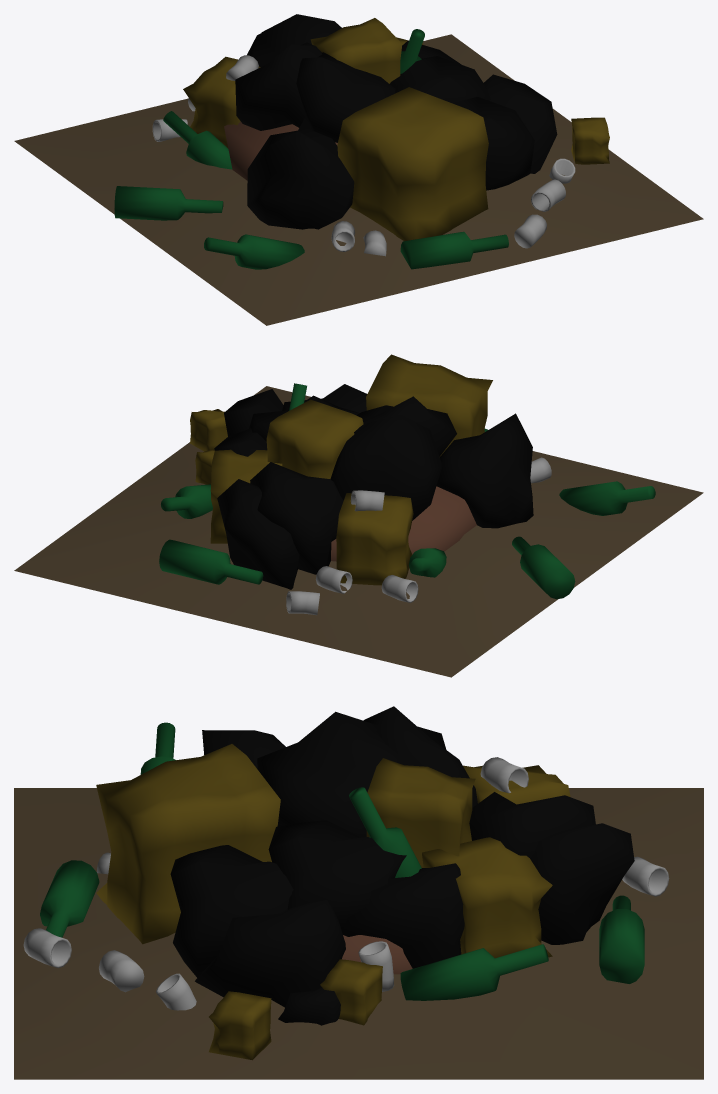
Rendered from TrashHeap.fbx.
The picture shows the model from 3 angles, top to bottom: view 1: azimuth 30°, elevation 25°; view 2: azimuth 150°, elevation 25°; view 3: azimuth 270°, elevation 25°; orthographic projection. The views are drawn at different scales.
Parts seen in each view (by area): view 1: Mound, TrashBag, TrashBox, Bottle, Can, Base; view 2: Mound, TrashBag, TrashBox, Bottle, Can, Base; view 3: Mound, TrashBag, TrashBox, Bottle, Can, Base.
Part boxes in pixels (x1,y1,x2,y2): Mound: (14,34,703,325); TrashBag: (235,14,557,229); TrashBox: (183,18,609,241); Bottle: (114,29,508,269); Can: (152,55,575,256); Base: (224,121,337,180); Mound: (14,386,703,677); TrashBag: (213,384,533,589); TrashBox: (190,354,492,585); Bottle: (159,383,655,599); Can: (286,457,551,615); Base: (331,486,476,561); Mound: (14,788,703,1079); TrashBag: (170,706,634,1025); TrashBox: (96,744,570,1060); Bottle: (40,722,644,1000); Can: (23,757,669,1010); Base: (342,935,412,974).
Bounding box in the file's own units: 3.14 × 3.06 × 1.2.
